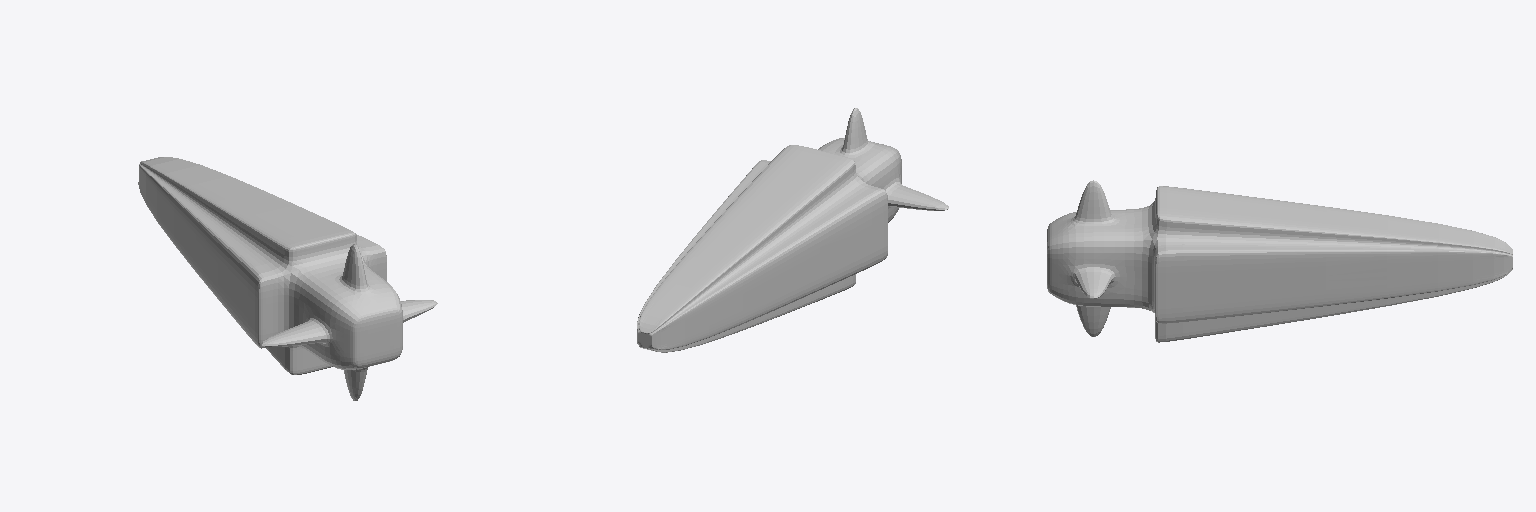
File: Torpedo.obj
3 renders of one model, left to right at view 1: azimuth 30°, elevation 25°; view 2: azimuth 150°, elevation 25°; view 3: azimuth 270°, elevation 25°, orthographic.
Visible parts, largest first — view 1: Cube; view 2: Cube; view 3: Cube.
Part boxes in pixels (left/top/right/bottom): Cube: left=138, top=157, right=437, bottom=400; Cube: left=637, top=108, right=948, bottom=352; Cube: left=1047, top=180, right=1512, bottom=342.
Bounding box in the file's own units: 0.7337 × 0.6254 × 1.69.